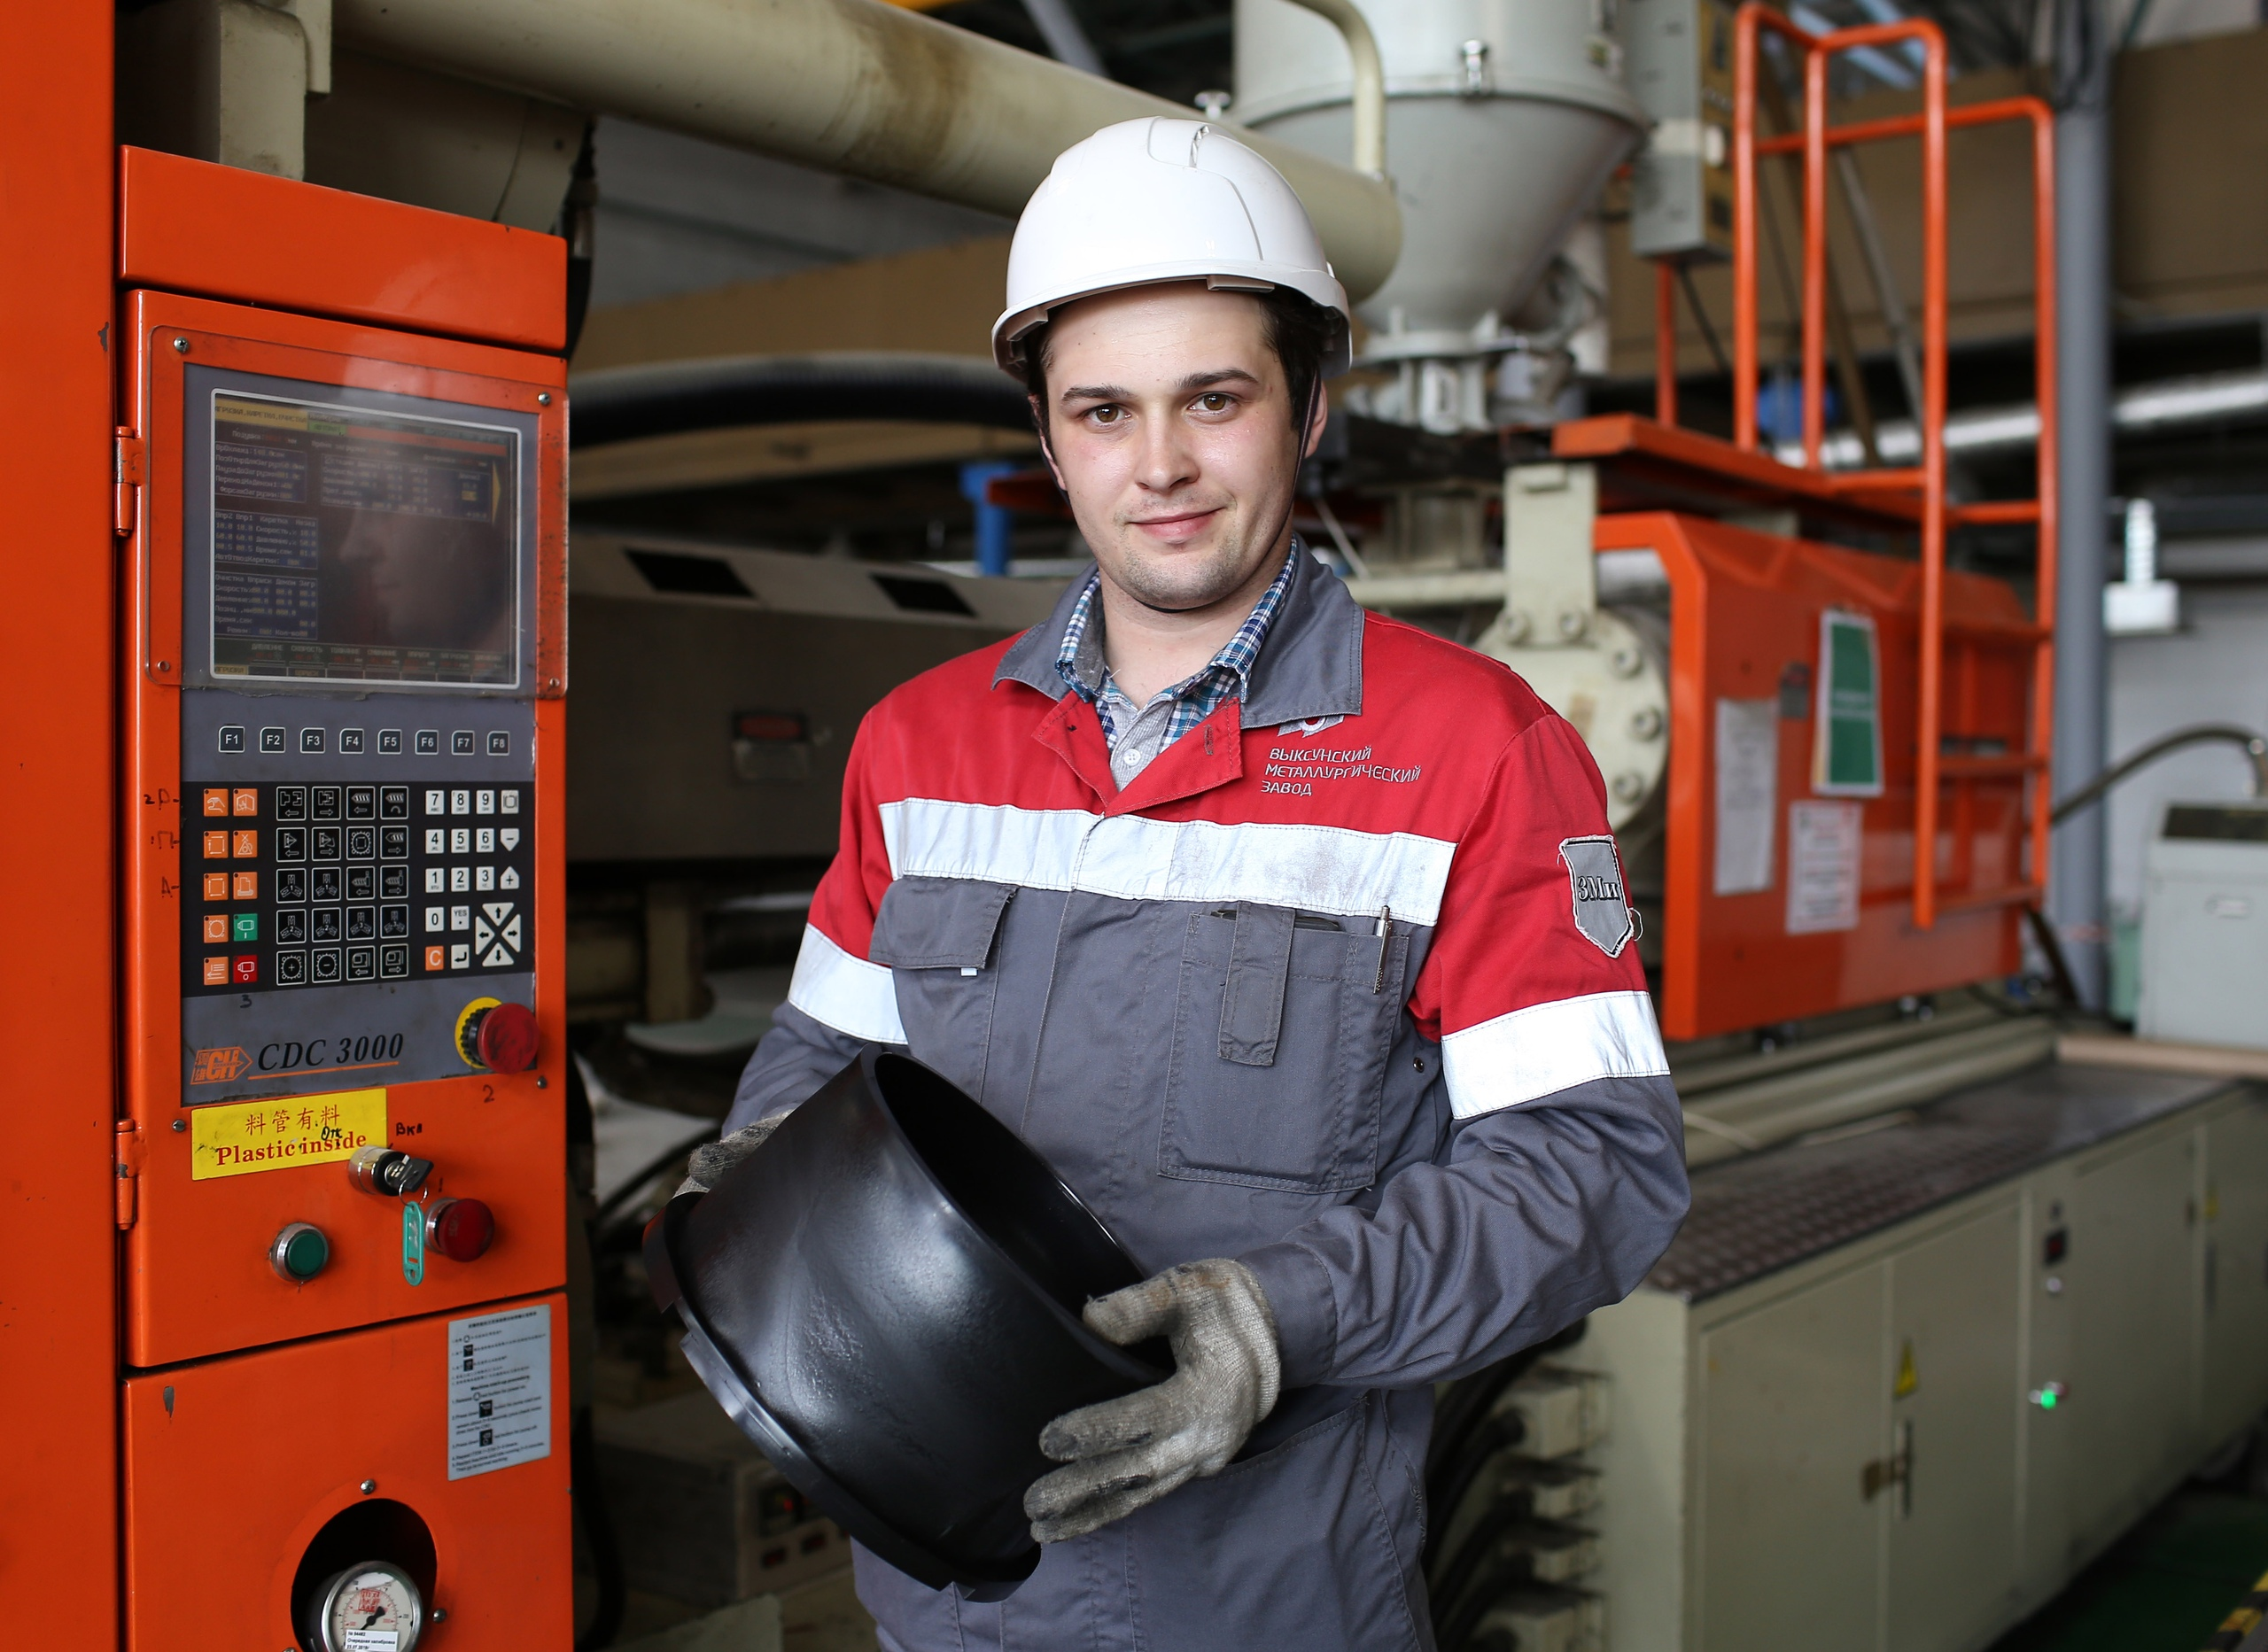person: (672, 117, 1691, 1652)
